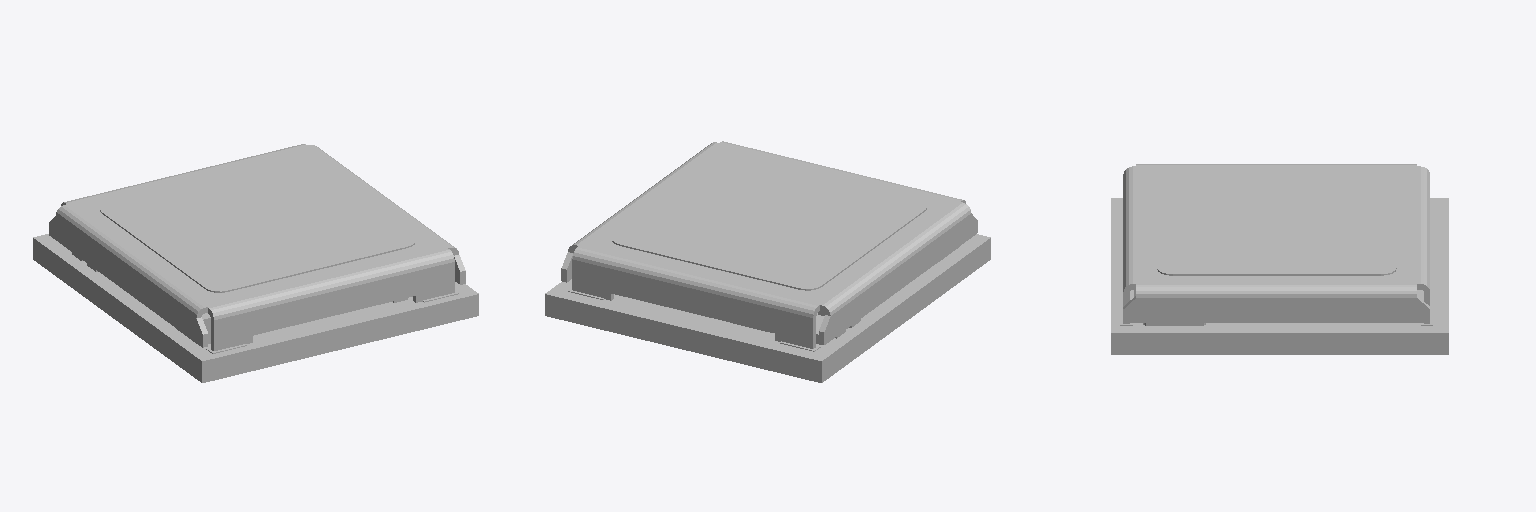
The model's file is NINA-B111.obj.
The picture shows the model from 3 angles: view 1: azimuth 30°, elevation 25°; view 2: azimuth 150°, elevation 25°; view 3: azimuth 270°, elevation 25°; orthographic projection.
Visible parts, largest first — view 1: NI_Part49.23, NI_NINA_BxxxLabel.4, NI_PCB.3, NI_PCB, NI_PCB.5; view 2: NI_Part49.23, NI_NINA_BxxxLabel.4, NI_PCB.4, NI_PCB, NI_PCB.5; view 3: NI_NINA_BxxxLabel.4, NI_Part49.23, NI_PCB.4, NI_PCB.
Boxes of the visible parts, x1=… form: NI_Part49.23: x1=49, y1=144, x2=465, y2=350; NI_NINA_BxxxLabel.4: x1=100, y1=158, x2=414, y2=291; NI_PCB.3: x1=202, y1=294, x2=478, y2=382; NI_PCB: x1=33, y1=234, x2=478, y2=360; NI_PCB.5: x1=33, y1=238, x2=201, y2=382; NI_Part49.23: x1=561, y1=141, x2=977, y2=348; NI_NINA_BxxxLabel.4: x1=612, y1=156, x2=926, y2=288; NI_PCB.4: x1=545, y1=294, x2=821, y2=382; NI_PCB: x1=545, y1=234, x2=990, y2=360; NI_PCB.5: x1=822, y1=238, x2=990, y2=382; NI_NINA_BxxxLabel.4: x1=1157, y1=173, x2=1396, y2=273; NI_Part49.23: x1=1123, y1=164, x2=1429, y2=323; NI_PCB.4: x1=1111, y1=333, x2=1448, y2=354; NI_PCB: x1=1111, y1=198, x2=1448, y2=332.
Size of the model in its own units: 10 by 2.23 by 10.6.